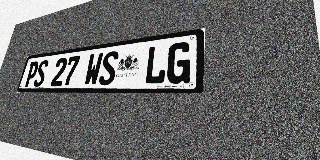2: (50, 57, 68, 86)
7: (62, 55, 81, 86)
G: (165, 41, 192, 84)
L: (143, 44, 168, 84)
P: (24, 61, 40, 87)
S: (98, 50, 119, 85), (33, 59, 49, 87)
W: (83, 52, 104, 86)
